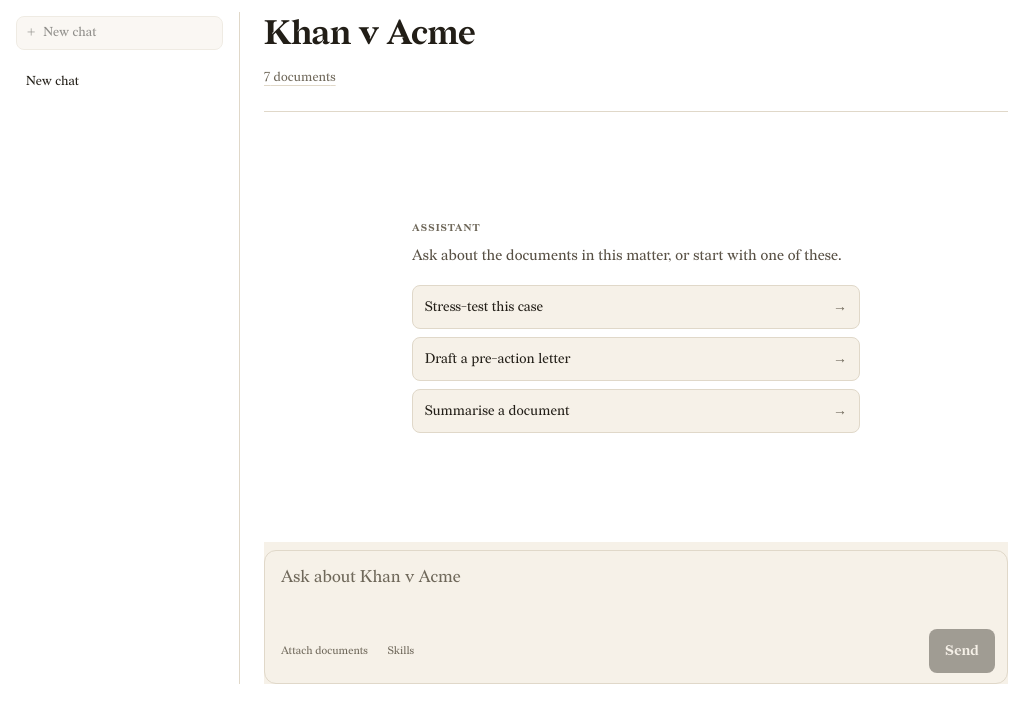
Test: AssistantTab — attach popover › filters the list by title
Click the button with test id "chat-documents-toggle".
click(324, 651)  # box [273, 639, 376, 663]
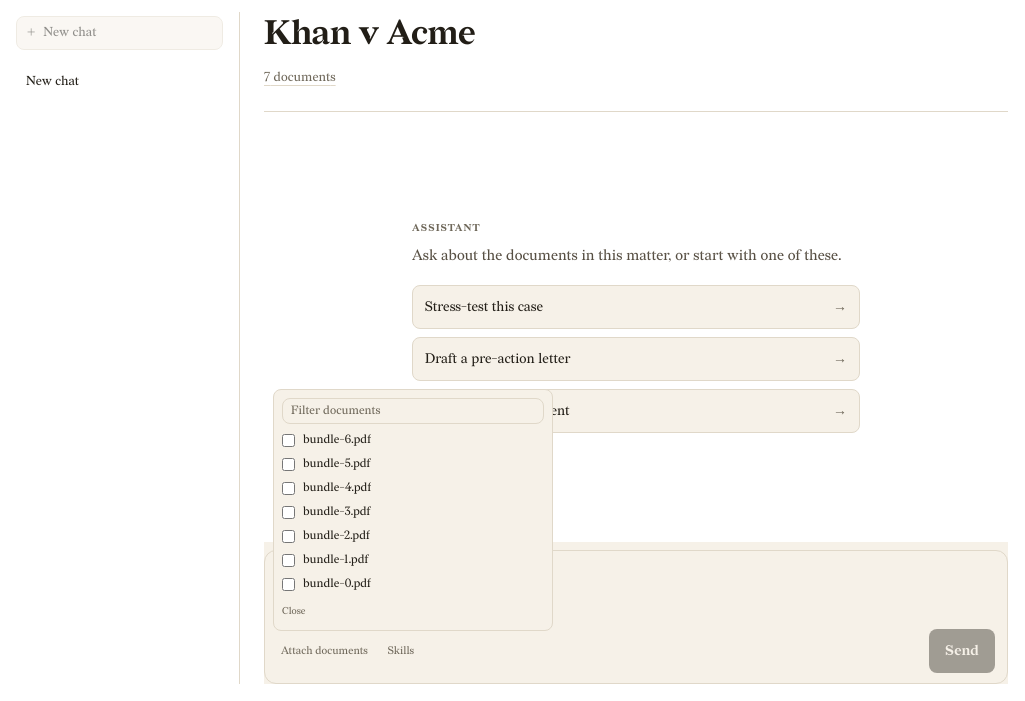
Type "bundle-3" into the field with test id "chat-attach-filter".
click(413, 411); type("bundle-3")  # box [282, 398, 544, 424]
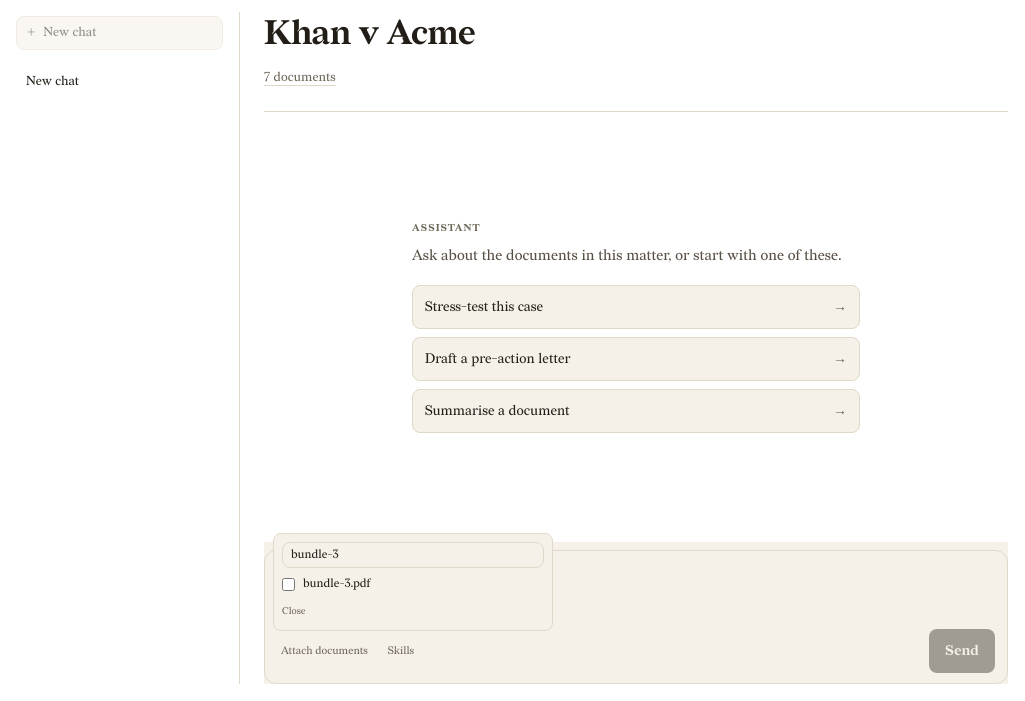
Expected: the number of checkboxes is 1, [282, 578, 295, 591]
Result: the text "bundle-3.pdf" is shown at [303, 576, 371, 592]
Replace the text in the field with test id "chat-attach-filter" with "no-such-doc" at (413, 555), box [282, 542, 544, 568]
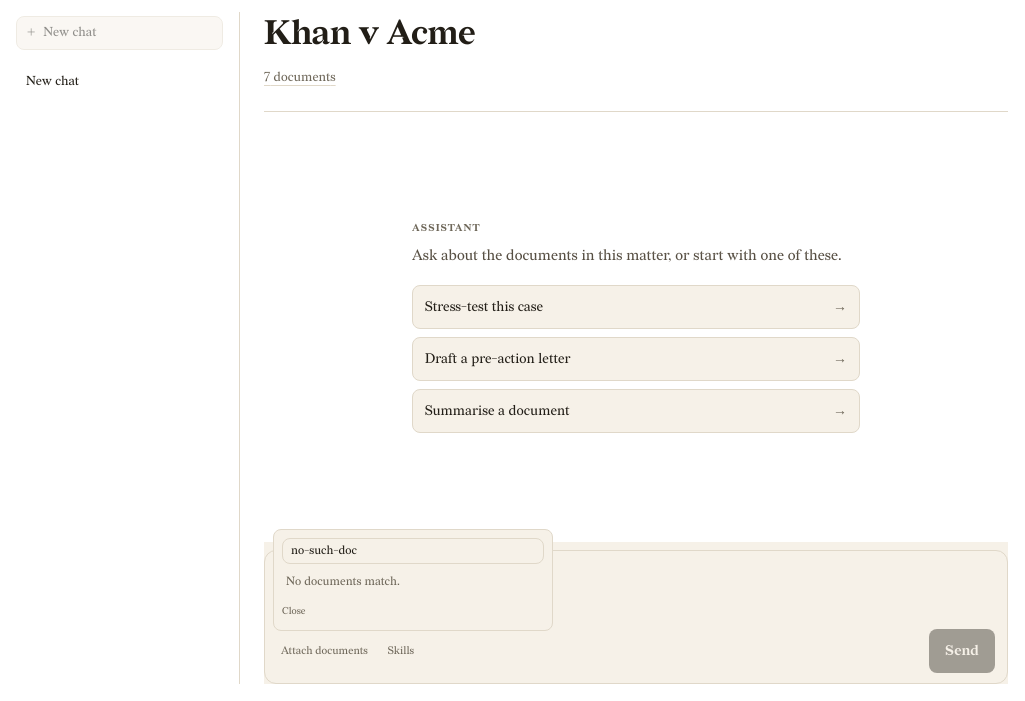
Result: no checkboxes are shown
Result: the list item "No documents match." is shown at [286, 574, 400, 589]
